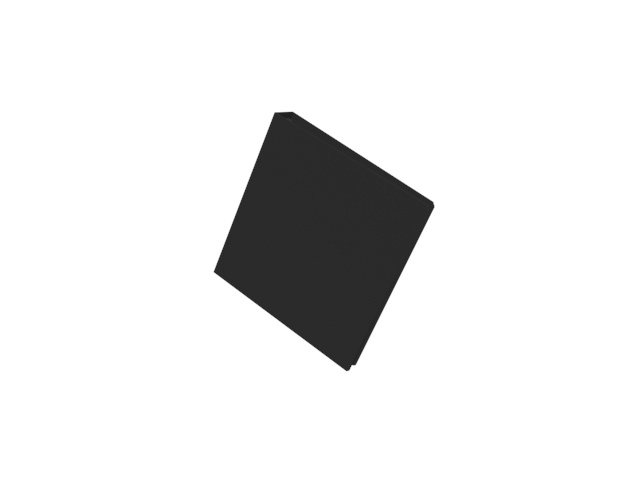ring_binder: (209, 105, 440, 376)
